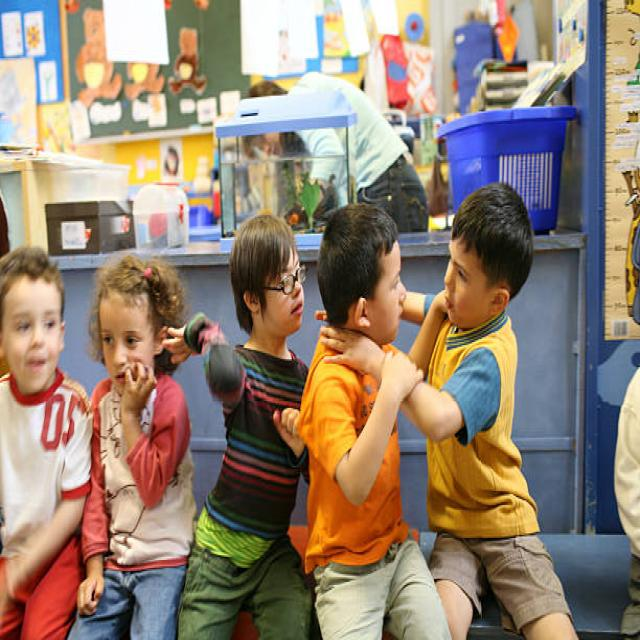fight: (306, 185, 544, 640), (192, 201, 406, 640)
